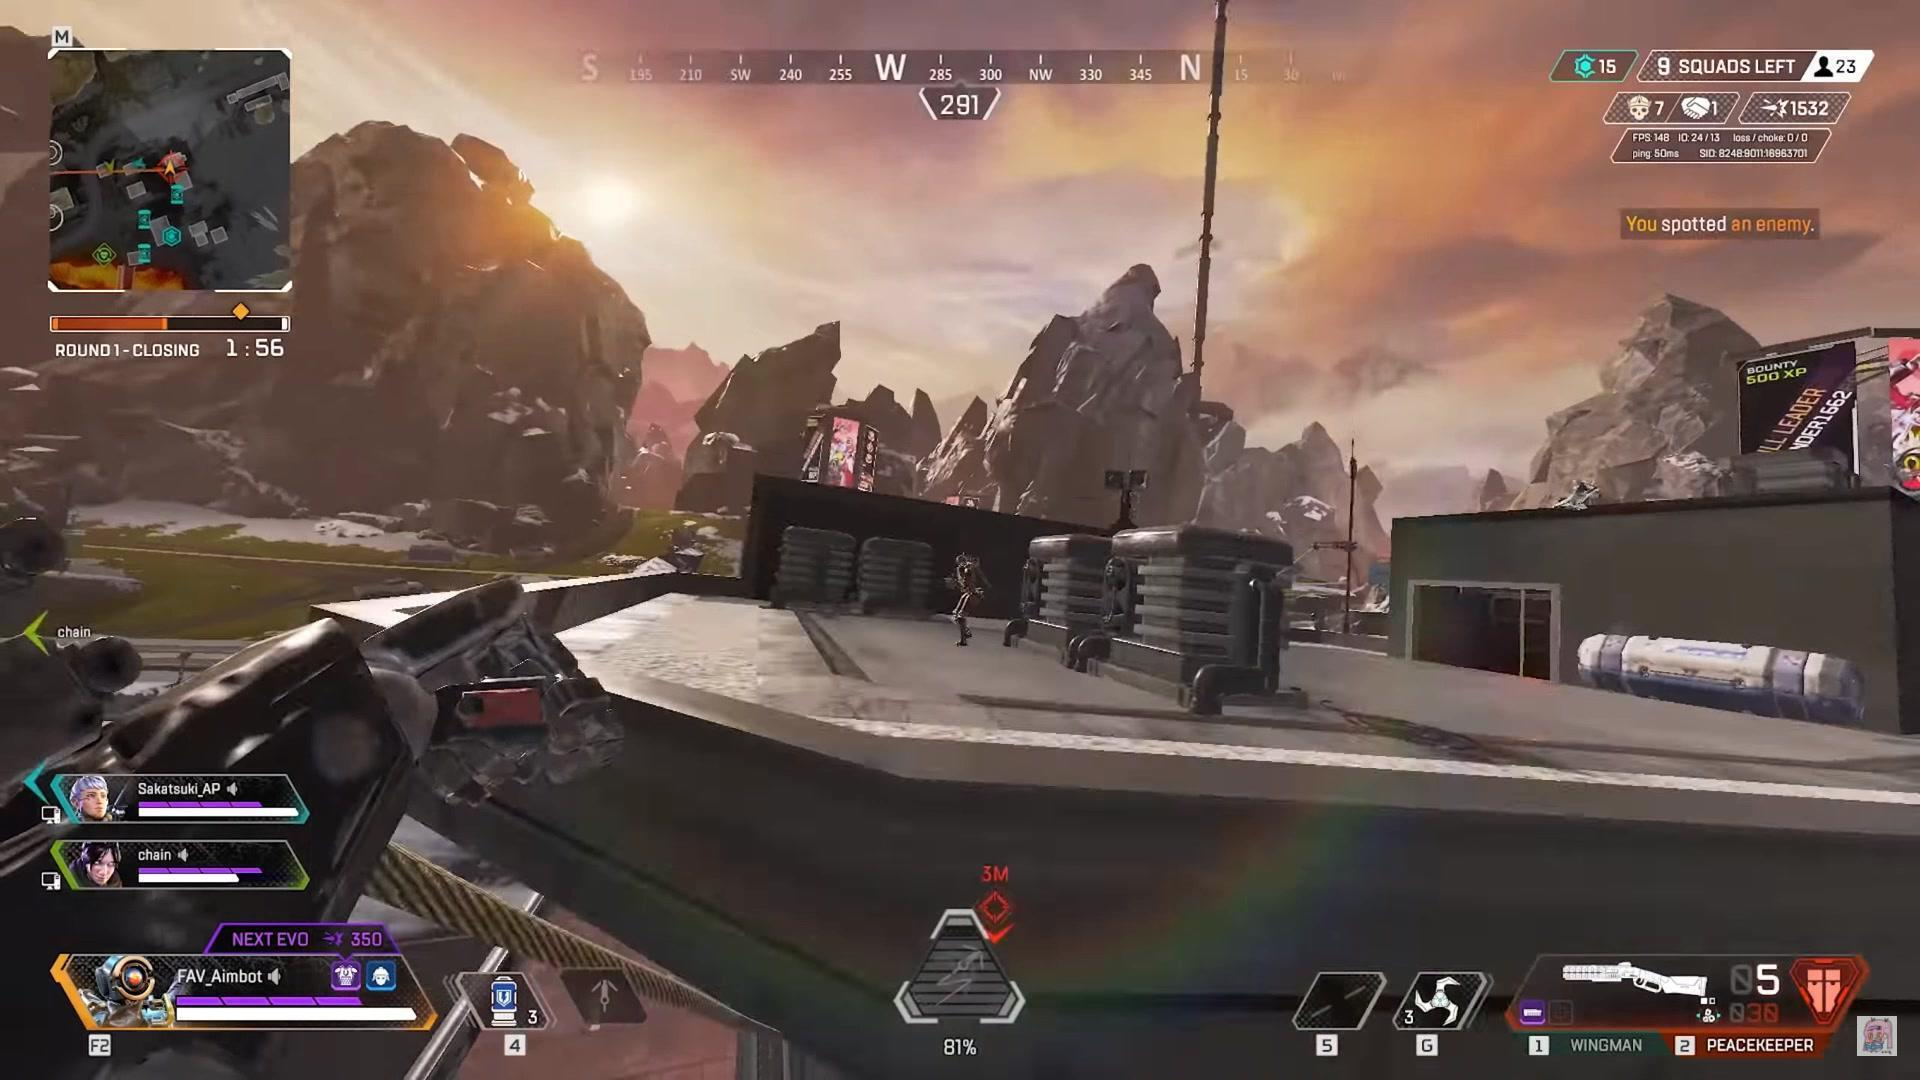avatar: (950, 550, 987, 650)
